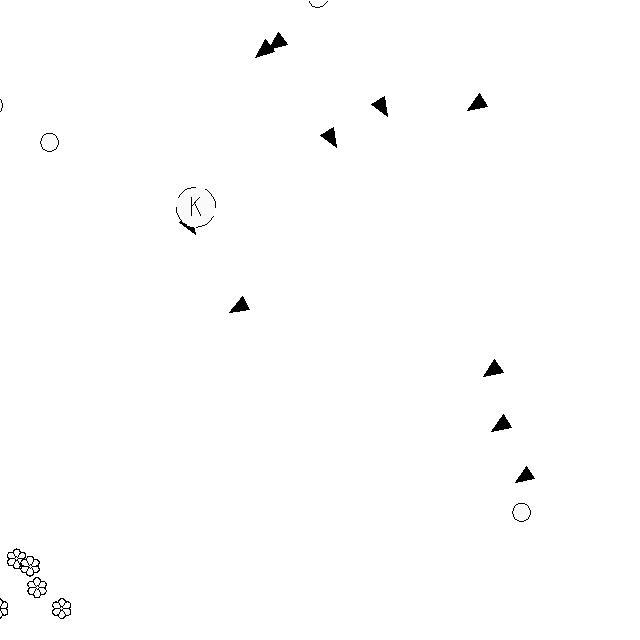Kolodech: (509, 499, 533, 524), (38, 130, 61, 154)
Kyst: (174, 184, 218, 230)
Kyst_2: (25, 575, 49, 599), (5, 547, 27, 571), (51, 596, 72, 621), (20, 553, 41, 578)
Otmetka: (488, 410, 514, 436), (481, 356, 507, 381), (512, 462, 538, 487), (318, 125, 340, 151), (226, 294, 252, 316), (253, 37, 276, 61), (465, 90, 489, 113), (370, 93, 391, 118), (269, 29, 290, 52)
